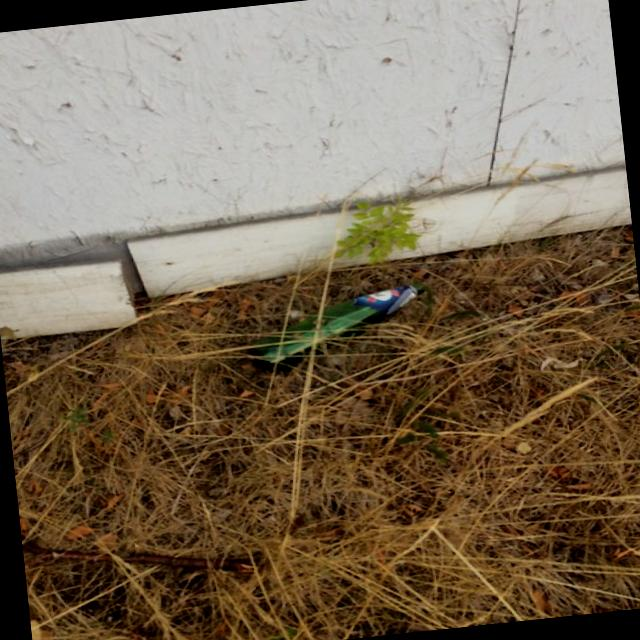Trash: (246, 280, 435, 369)
